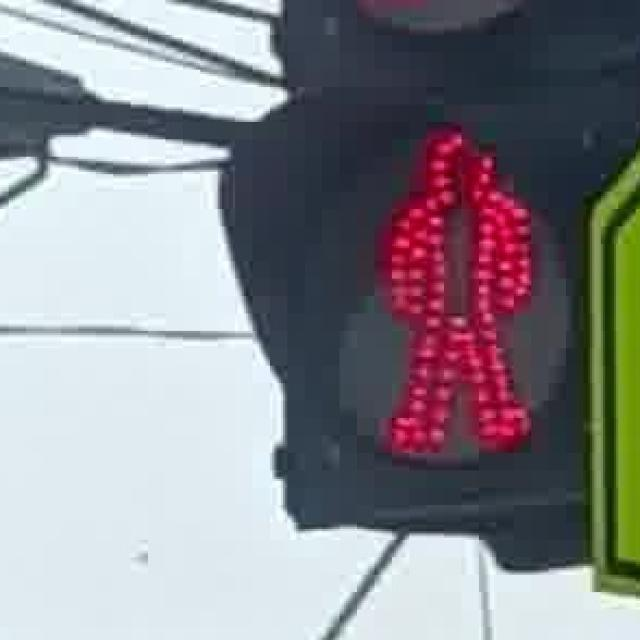red-crossing: (359, 102, 549, 460)
